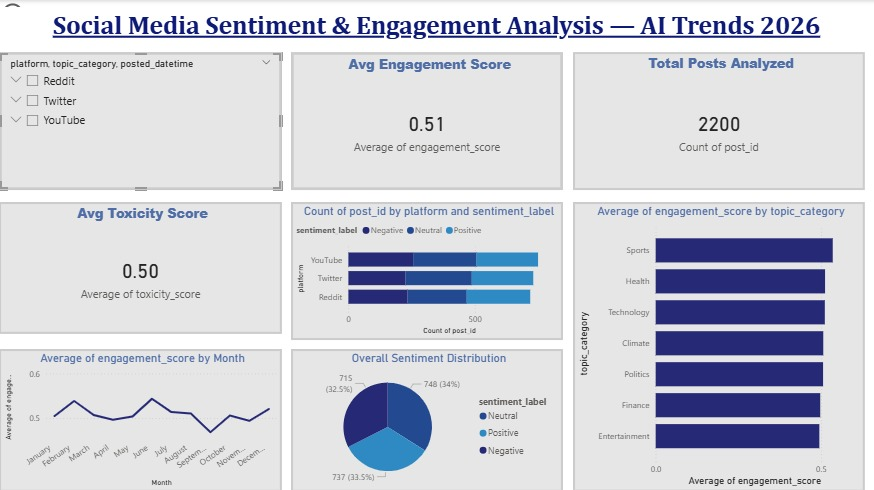

What the dashboard file says about the page in this screenshot:
{"tool":"powerbi","page":{"name":"card","canvas":[1280,720],"ordinal":0},"visuals":[{"type":"card","title":"Total Posts Analyzed","fields":{"Values":["CountNonNull(cleaned_social_media_data.post_id)"]},"box":[840,76.1,427.3,202],"z":0},{"type":"actionButton","box":[0,0,100,40],"z":1000},{"type":"card","title":"Avg Engagement Score","fields":{"Values":["Avg(cleaned_social_media_data.engagement_score)"]},"box":[427.3,76.1,398,202],"z":2000},{"type":"card","title":"Avg Toxicity Score","fields":{"Values":["Avg(cleaned_social_media_data.toxicity_score)"]},"box":[0,295.6,414.1,193.2],"z":3000},{"type":"barChart","fields":{"Series":["cleaned_social_media_data.sentiment_label"],"Category":["cleaned_social_media_data.platform"],"Y":["CountNonNull(cleaned_social_media_data.post_id)"]},"box":[427.3,295.6,398,202],"z":4000},{"type":"lineChart","fields":{"Category":["cleaned_social_media_data.posted_datetime.Variation.Date Hierarchy.Month"],"Y":["Avg(cleaned_social_media_data.engagement_score)"]},"box":[0,510.7,414.1,209.3],"z":5000},{"type":"clusteredBarChart","fields":{"Category":["cleaned_social_media_data.topic_category"],"Y":["Avg(cleaned_social_media_data.engagement_score)"]},"box":[840,295.6,427.3,424.4],"z":6000},{"type":"slicer","fields":{"Values":["cleaned_social_media_data.platform","cleaned_social_media_data.topic_category","cleaned_social_media_data.posted_datetime"]},"box":[0,76.1,414.1,202],"z":7000},{"type":"textbox","box":[0,10.2,1280.5,65.9],"z":8000},{"type":"pieChart","title":"Overall Sentiment Distribution","fields":{"Category":["cleaned_social_media_data.sentiment_label"],"Y":["CountNonNull(cleaned_social_media_data.post_id)"]},"box":[427,511,398,209],"z":8001}]}

Visuals, with their boxes in screenshot pixels (x1, y1, x2, y2), scaled from the page's 1280x720 canvas onto the 874x490 screenshot:
"Total Posts Analyzed" card: region(574, 52, 865, 189)
actionButton: region(0, 0, 68, 27)
"Avg Engagement Score" card: region(292, 52, 564, 189)
"Avg Toxicity Score" card: region(0, 201, 283, 333)
barChart - cleaned_social_media_data.sentiment_label x cleaned_social_media_data.platform: region(292, 201, 564, 339)
lineChart - cleaned_social_media_data.posted_datetime.Variation.Date Hierarchy.Month x Avg(cleaned_social_media_data.engagement_score): region(0, 348, 283, 489)
clusteredBarChart - cleaned_social_media_data.topic_category x Avg(cleaned_social_media_data.engagement_score): region(574, 201, 865, 489)
slicer - cleaned_social_media_data.platform x cleaned_social_media_data.topic_category: region(0, 52, 283, 189)
textbox: region(0, 7, 873, 52)
"Overall Sentiment Distribution" pieChart: region(292, 348, 563, 489)
